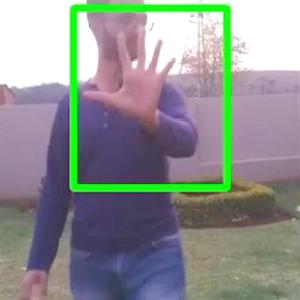follow_hand: (81, 21, 181, 124)
